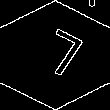L_SW: (25, 25, 85, 85)
